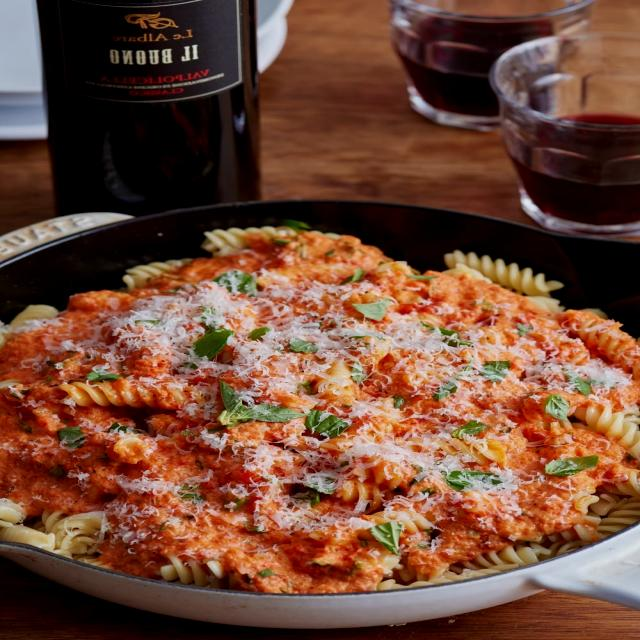pasta: (15, 243, 598, 591)
